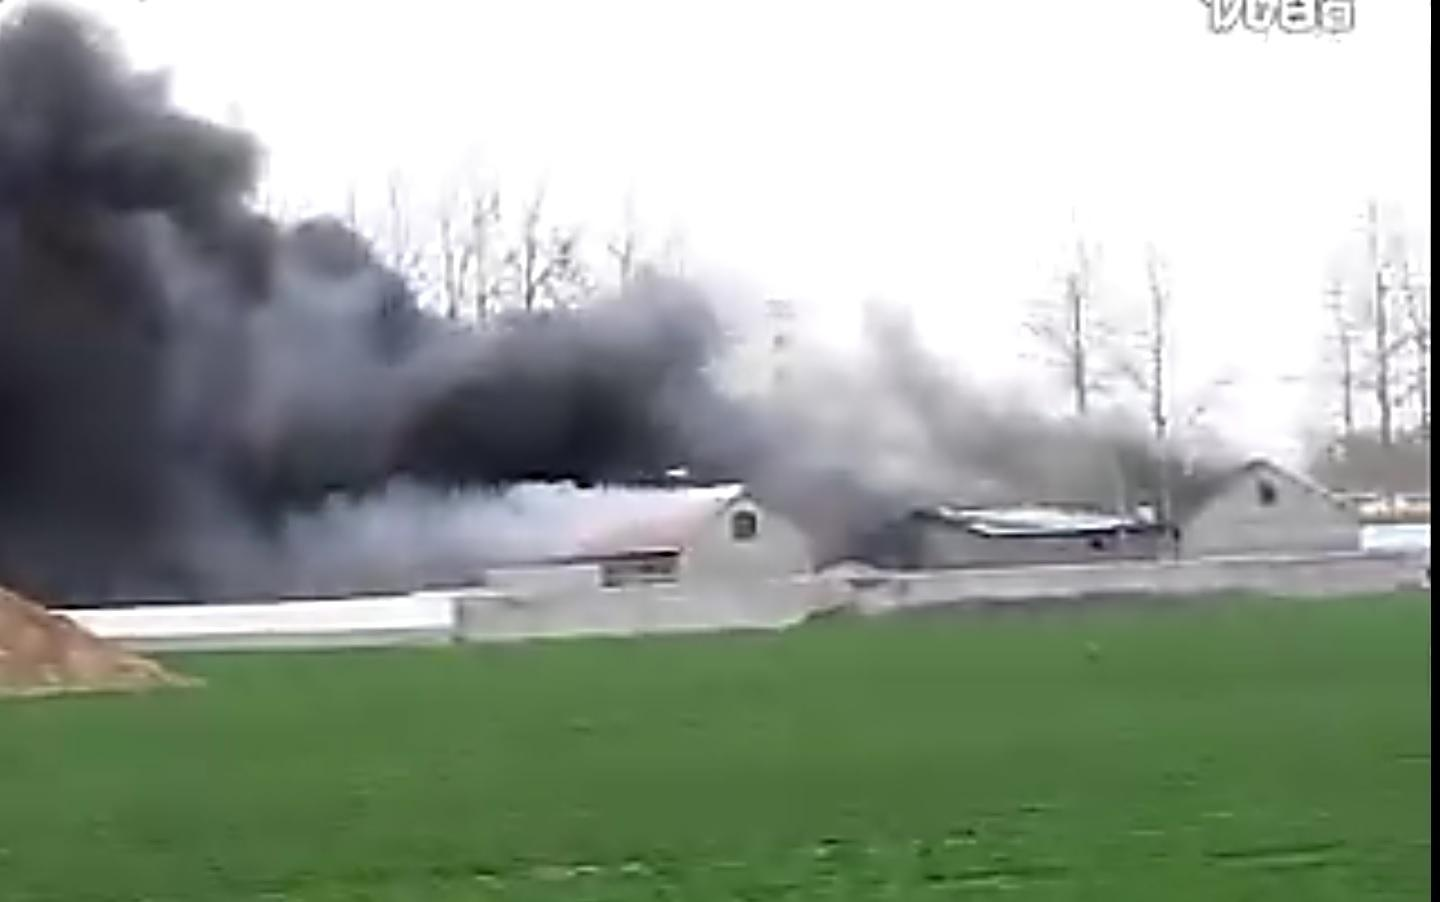fire: (0, 555, 186, 698)
